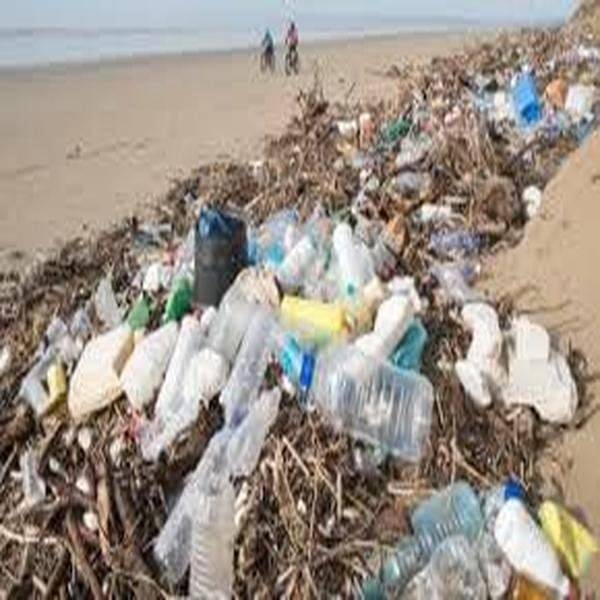tutuma: (290, 343, 446, 465)
